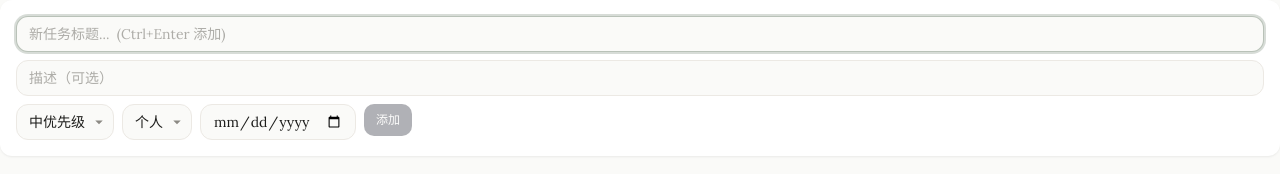
Test case: TodoForm › enables the add button when title has text
Type "New Task" into the field with test id "todo-input" at (640, 34), box 16,16 -> 1264,52
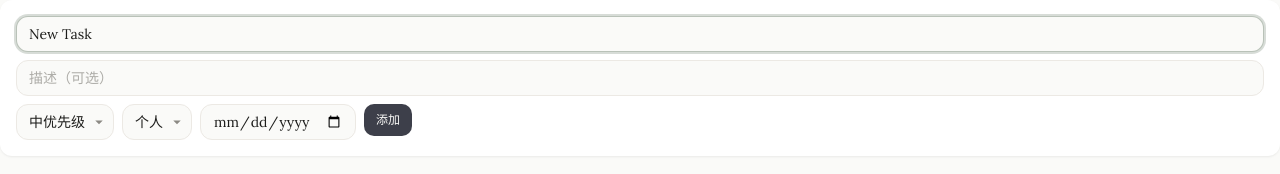
Now the button with test id "add-button" is enabled, box 364,104 -> 412,136
